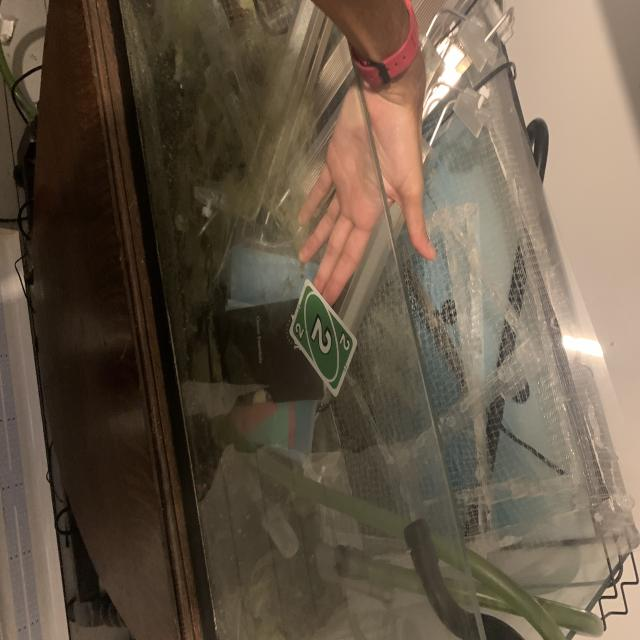lgreen-2: (293, 320, 306, 341)
